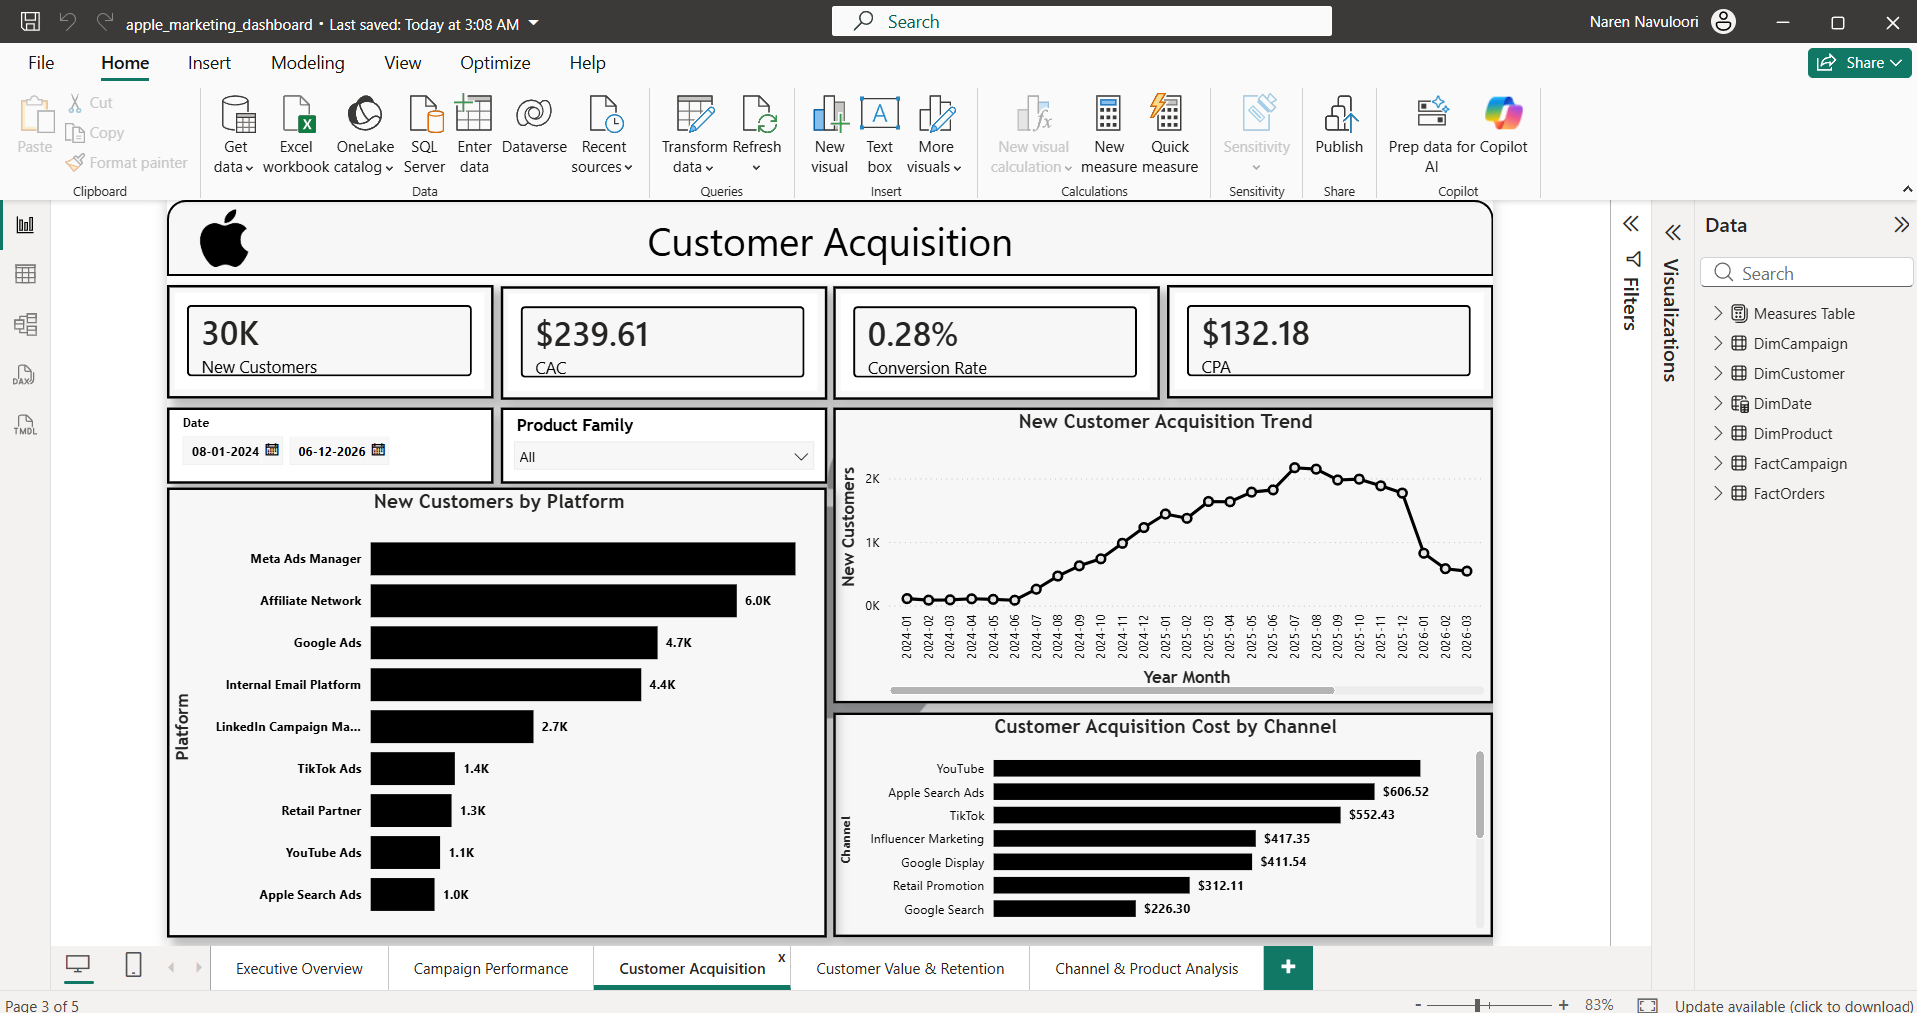

What the dashboard file says about the page in this screenshot:
{"tool":"powerbi","page":{"name":"Customer Acquisition","canvas":[1280,720],"ordinal":2},"visuals":[{"type":"shape","box":[0,0,1280.3,73.4],"z":0},{"type":"image","box":[18.3,6.1,74.6,61.1],"z":1000},{"type":"cardVisual","fields":{"Data":["Measures Table.New Customers"]},"box":[0,82,315,109.8],"z":2000},{"type":"cardVisual","fields":{"Data":["Measures Table.CAC"]},"box":[321.8,83.2,314.9,109.8],"z":3000},{"type":"cardVisual","fields":{"Data":["Measures Table.Conversion Rate"]},"box":[643.5,83.2,314.9,109.8],"z":4000},{"type":"cardVisual","fields":{"Data":["Measures Table.CPA"]},"box":[965.1,82,314.9,109.8],"z":5000},{"type":"slicer","fields":{"Values":["DimDate.Date"]},"box":[0,200.3,314.9,73.6],"z":6000},{"type":"slicer","fields":{"Values":["DimProduct.product_family"]},"box":[322.1,200.3,314.9,73.6],"z":7000},{"type":"lineChart","title":"New Customer Acquisition Trend","fields":{"Category":["DimDate.Year Month"],"Y":["Measures Table.New Customers"]},"box":[643,200.3,637,285.9],"z":8000},{"type":"clusteredBarChart","title":"Customer Acquisition Cost by Channel","fields":{"Category":["FactCampaign.channel"],"Y":["Measures Table.CAC"]},"box":[643,494.6,637,217.2],"z":9000},{"type":"clusteredBarChart","title":"New Customers by Platform","fields":{"Category":["FactCampaign.platform"],"Y":["Measures Table.New Customers"]},"box":[0,277.5,637,434.3],"z":10000}]}

Visuals, with their boxes on the page's 1280x720 design canvas (x1, y1, x2, y2). These are canvas units, not pixel positions in the 1917x1013 screenshot, which may show the page scaled, cropped or inside an application window:
shape: <box>0,0,1280,73</box>
image: <box>18,6,93,67</box>
cardVisual - Measures Table.New Customers: <box>0,82,315,192</box>
cardVisual - Measures Table.CAC: <box>322,83,637,193</box>
cardVisual - Measures Table.Conversion Rate: <box>644,83,958,193</box>
cardVisual - Measures Table.CPA: <box>965,82,1280,192</box>
slicer - DimDate.Date: <box>0,200,315,274</box>
slicer - DimProduct.product_family: <box>322,200,637,274</box>
"New Customer Acquisition Trend" lineChart: <box>643,200,1280,486</box>
"Customer Acquisition Cost by Channel" clusteredBarChart: <box>643,495,1280,712</box>
"New Customers by Platform" clusteredBarChart: <box>0,278,637,712</box>
